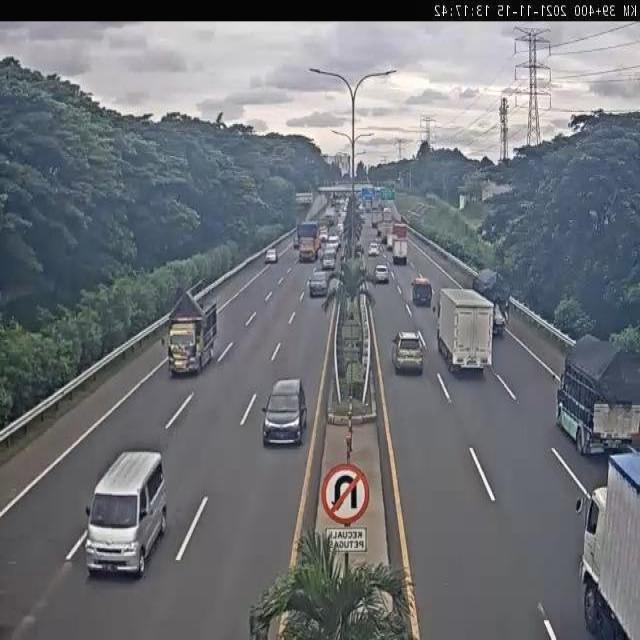Car: (76, 449, 171, 585), (262, 376, 308, 446), (471, 273, 514, 339), (391, 331, 424, 375), (411, 274, 432, 306), (308, 269, 331, 297), (375, 264, 389, 284), (322, 251, 336, 270), (264, 248, 278, 264), (293, 234, 299, 249)
Truck: (579, 450, 640, 640), (555, 335, 639, 455), (437, 280, 499, 380), (163, 284, 217, 376), (386, 226, 418, 266), (295, 224, 321, 263)
